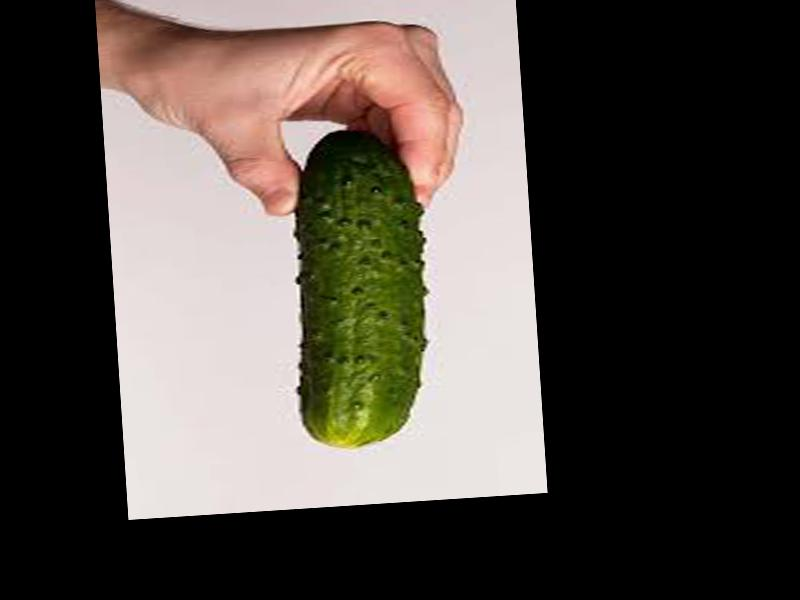Cucumber: (292, 125, 435, 448)
